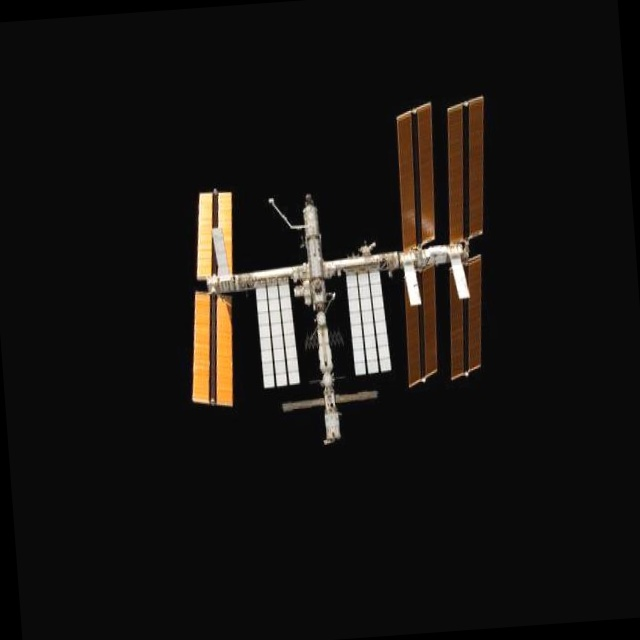satellite: (178, 97, 496, 432)
